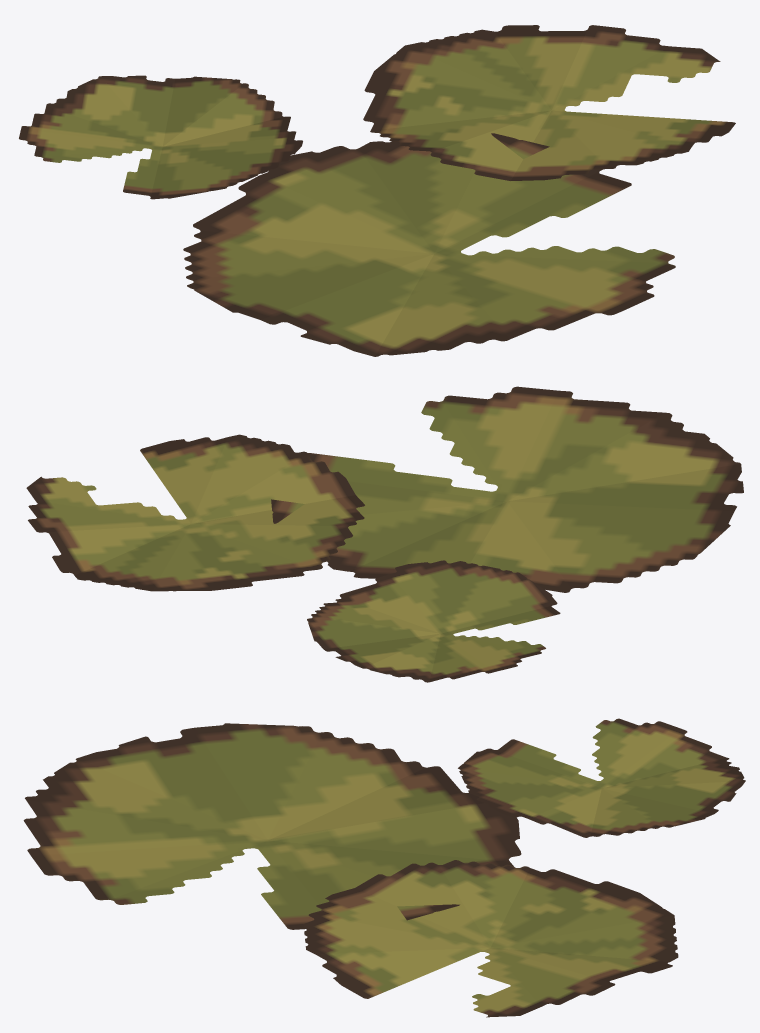
File: SM_SW05_LilyPads.fbx
The picture shows the model from 3 angles, top to bottom: view 1: azimuth 30°, elevation 25°; view 2: azimuth 150°, elevation 25°; view 3: azimuth 270°, elevation 25°; orthographic projection. The views are drawn at different scales.
Parts seen in each view (by area): view 1: SW05a_Plants; view 2: SW05a_Plants; view 3: SW05a_Plants.
Part boxes in pixels (box(x1,y1,x2,y2)): SW05a_Plants: box(19, 25, 735, 356); SW05a_Plants: box(26, 386, 743, 682); SW05a_Plants: box(23, 718, 745, 1017).
Bounding box in the file's own units: 0.3792 × 0.0137 × 0.3946.
